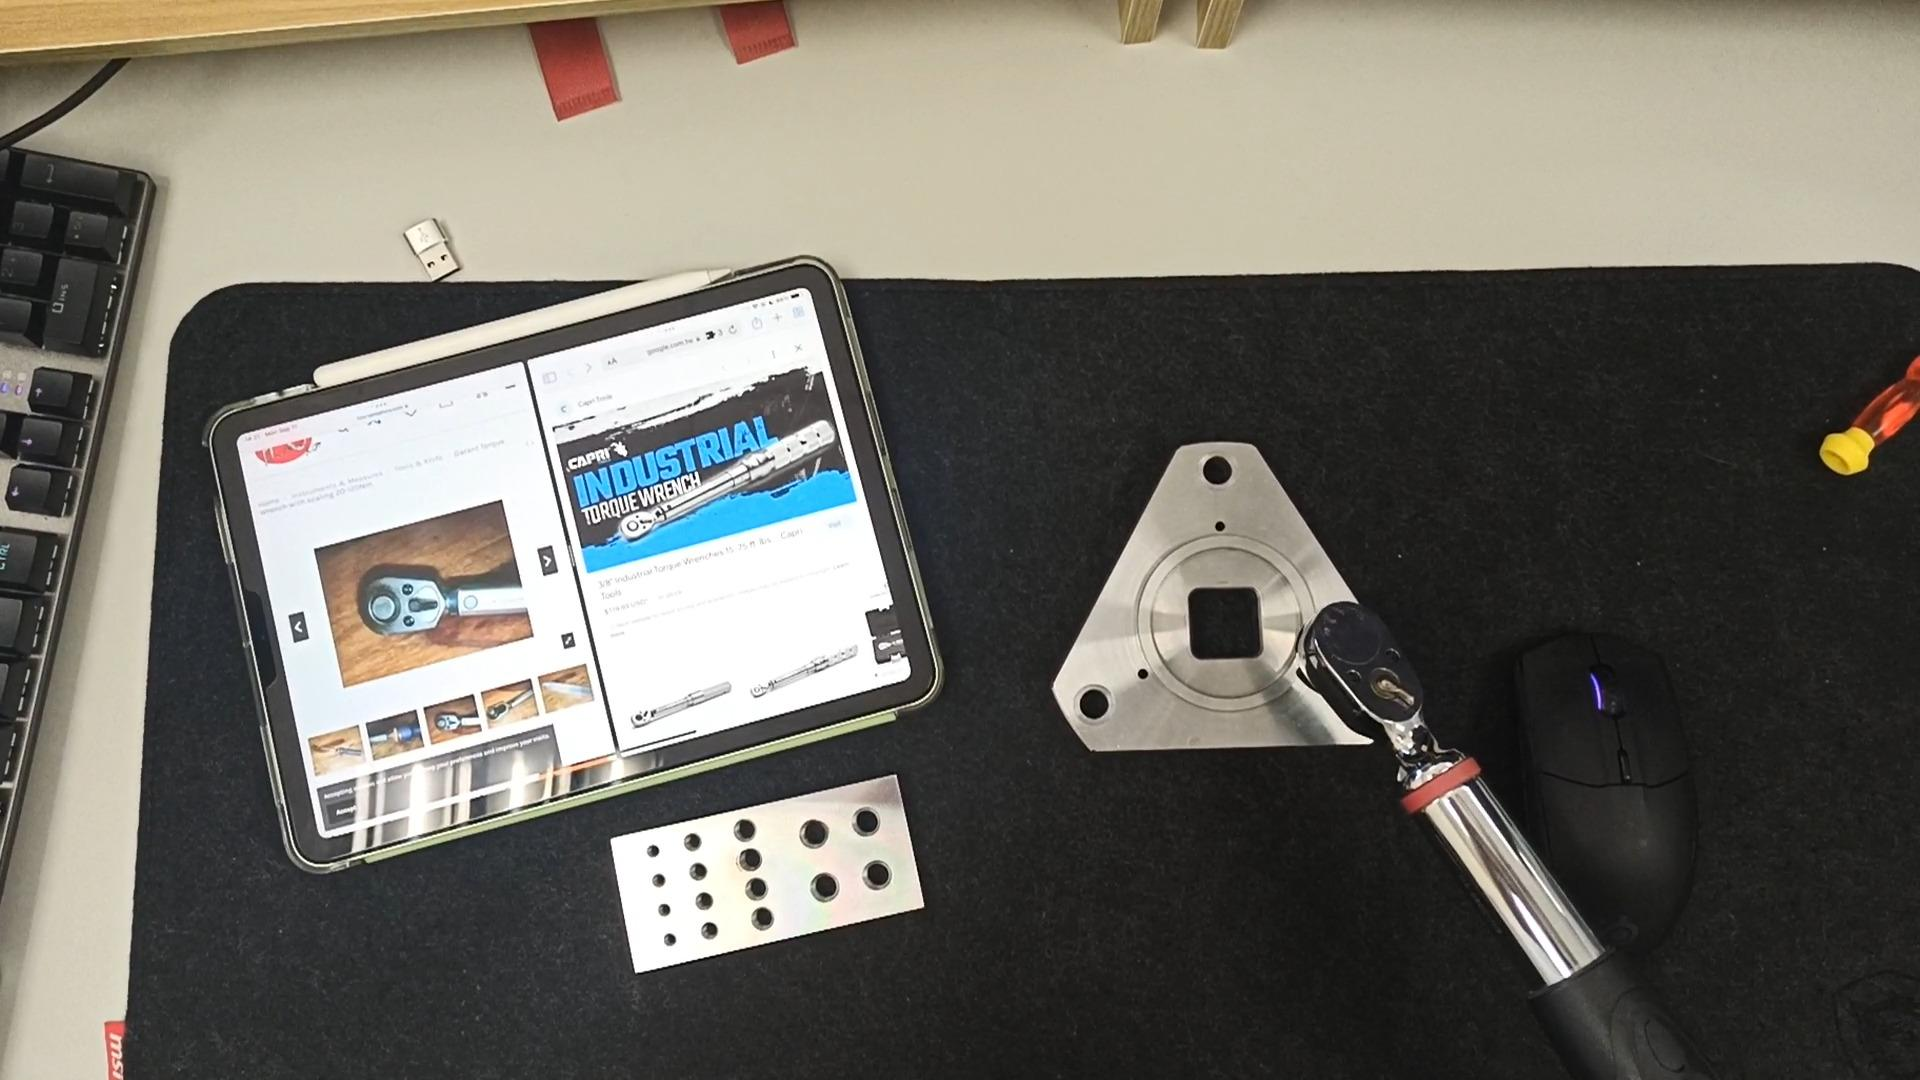Tool: (1296, 601, 1451, 790), (353, 570, 452, 636), (618, 506, 658, 539)
hole: (1180, 456, 1241, 497), (1060, 690, 1116, 731), (845, 860, 902, 898), (829, 808, 889, 844), (785, 816, 840, 849), (800, 870, 853, 905), (721, 818, 767, 844), (727, 849, 773, 876), (741, 910, 785, 934), (738, 878, 777, 903), (684, 862, 723, 884), (676, 835, 715, 855), (691, 891, 728, 911), (695, 923, 729, 942), (650, 872, 680, 889), (654, 905, 684, 922), (644, 845, 675, 861), (661, 932, 690, 948)
